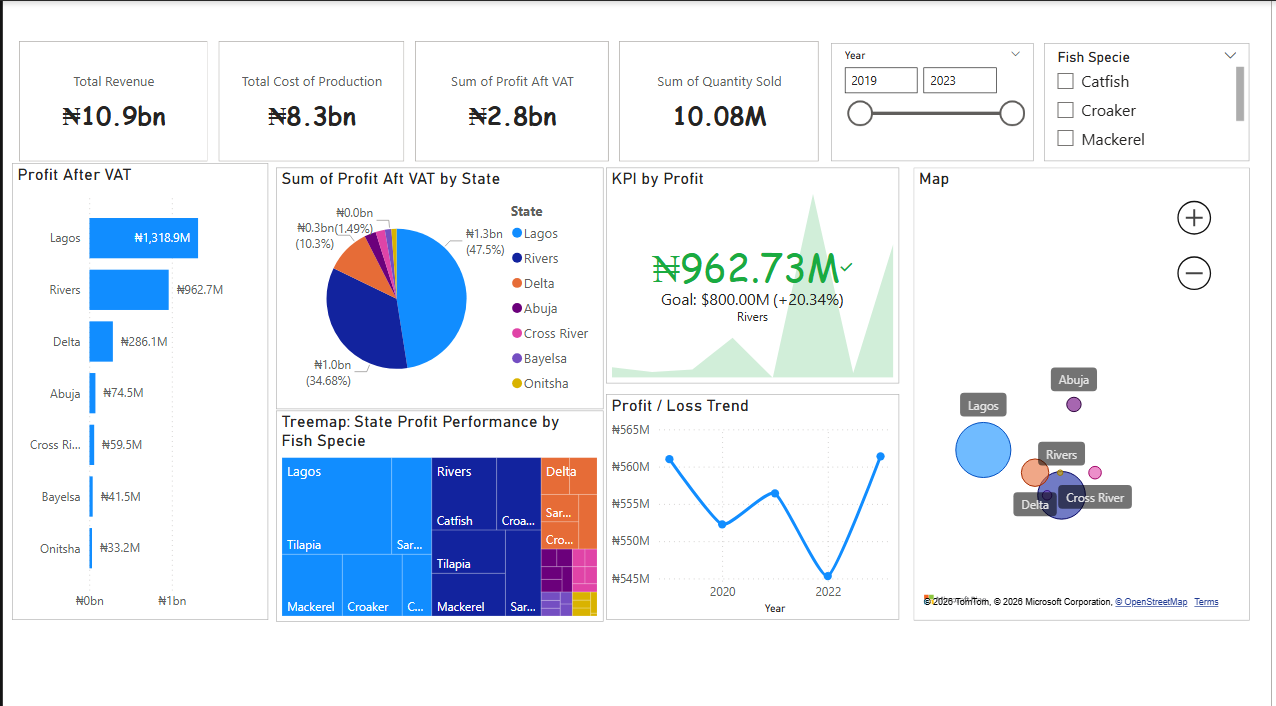

The dashboard page shown, as its layout file describes it:
{"tool":"powerbi","page":{"name":"Page 1","canvas":[1280,720],"ordinal":0},"visuals":[{"type":"group","id":"g1","title":"Group 1","box":[8.9,35.6,1250,590.5],"z":0},{"type":"cardVisual","fields":{"Data":["Sum(SALES SUMMARY.Revenue)"]},"box":[10,35.6,201.3,132.9],"z":0,"group":"g1"},{"type":"cardVisual","fields":{"Data":["Sum(SALES SUMMARY.Cost)"]},"box":[211.3,35.6,198.1,132.9],"z":1000,"group":"g1"},{"type":"treemap","title":"Treemap: State Profit Performance by Fish Specie","fields":{"Values":["Sum(SALES SUMMARY.Profit Aft VAT)"],"Details":["FISH SPECIE.Fish Specie"],"Group":["SALES SUMMARY.State"]},"box":[275.1,412.7,330.4,213.4],"z":1000},{"type":"cardVisual","fields":{"Data":["Sum(SALES SUMMARY.Quantity Sold)"]},"box":[616,35.6,212.9,132.9],"z":2000,"group":"g1"},{"type":"cardVisual","fields":{"Data":["Sum(SALES SUMMARY.Profit Aft VAT)"]},"box":[409.4,35.6,206.6,132.9],"z":3000,"group":"g1"},{"type":"barChart","title":"Profit After VAT","fields":{"Y":["Sum(SALES SUMMARY.Profit Aft VAT)"],"Category":["SALES SUMMARY.State"]},"box":[8.9,165,258.9,461.1],"z":4000,"group":"g1"},{"type":"slicer","fields":{"Values":["OPERATION DATES.Year"]},"box":[836.3,42.9,204.5,119.5],"z":5000,"group":"g1"},{"type":"slicer","fields":{"Values":["FISH SPECIE.Fish Specie"]},"box":[1051.3,42.9,207.6,119.5],"z":6000,"group":"g1"},{"type":"pieChart","fields":{"Category":["State.State"],"Y":["Sum(SALES SUMMARY.Profit Aft VAT)"]},"box":[275.2,168.6,330.4,244.3],"z":7000,"group":"g1"},{"type":"map","title":"Map","fields":{"Size":["Sum(SALES SUMMARY.Profit Aft VAT)"],"Y":["Min(State.Latitude)"],"Category":["State.State"],"X":["Avg(State.Longitude)"],"Series":["State.State"]},"box":[919.5,168.5,339.4,457.1],"z":8000,"group":"g1"},{"type":"kpi","title":"KPI by Profit ","fields":{"Goal":["Sum(State.State Target)"],"Indicator":["Sum(SALES SUMMARY.Profit Aft VAT)"],"TrendLine":["State.State"]},"box":[608.6,168.5,296.2,218.2],"z":9000,"group":"g1"},{"type":"lineChart","title":"Profit / Loss Trend","fields":{"Y":["Sum(SALES SUMMARY.Profit Aft VAT)"],"Category":["OPERATION DATES.Year"]},"box":[608.6,397.6,296.2,228],"z":10000,"group":"g1"}]}

Visuals, with their boxes in screenshot pixels (x1, y1, x2, y2), scaled from the page's 1280x720 canvas onto the 1276x706 screenshot:
"Group 1" group: 9 35 1255 614
cardVisual - Sum(SALES SUMMARY.Revenue): 10 35 211 165
cardVisual - Sum(SALES SUMMARY.Cost): 211 35 408 165
"Treemap: State Profit Performance by Fish Specie" treemap: 274 405 604 614
cardVisual - Sum(SALES SUMMARY.Quantity Sold): 614 35 826 165
cardVisual - Sum(SALES SUMMARY.Profit Aft VAT): 408 35 614 165
"Profit After VAT" barChart: 9 162 267 614
slicer - OPERATION DATES.Year: 834 42 1038 159
slicer - FISH SPECIE.Fish Specie: 1048 42 1255 159
pieChart - State.State x Sum(SALES SUMMARY.Profit Aft VAT): 274 165 604 405
"Map" map: 917 165 1255 613
"KPI by Profit " kpi: 607 165 902 379
"Profit / Loss Trend" lineChart: 607 390 902 613
